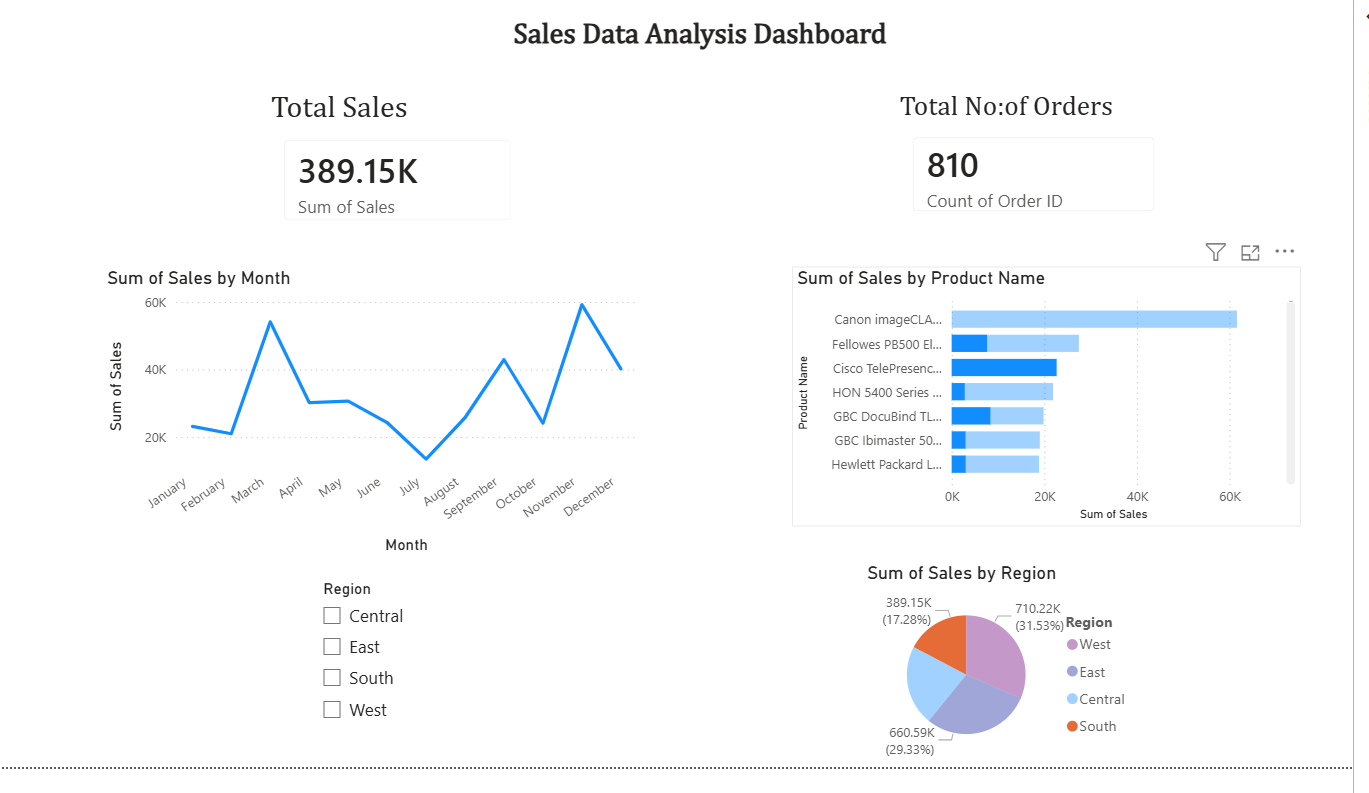

This screenshot's page, from the dashboard's own definition file:
{"tool":"powerbi","page":{"name":"Page 1","canvas":[1280,720],"ordinal":0},"visuals":[{"type":"lineChart","fields":{"Category":["cleaned_sales_data.Order Date.Variation.Date Hierarchy.Month"],"Y":["Sum(cleaned_sales_data.Sales)"]},"box":[116.3,253.5,502.3,272.1],"z":0},{"type":"clusteredBarChart","fields":{"Category":["cleaned_sales_data.Product Name"],"Y":["Sum(cleaned_sales_data.Sales)"]},"box":[758.1,253.5,473.3,241.9],"z":1},{"type":"pieChart","fields":{"Category":["cleaned_sales_data.Region"],"Y":["Sum(cleaned_sales_data.Sales)"]},"box":[823.3,527.9,259.3,191.9],"z":2},{"type":"cardVisual","title":"Total Sales","fields":{"Data":["Sum(cleaned_sales_data.Sales)"]},"box":[268.6,90.7,245.3,137.2],"z":3},{"type":"cardVisual","title":"Total No:of Orders","fields":{"Data":["Count(cleaned_sales_data.Order ID)"]},"box":[853.5,90.7,259.3,129.1],"z":4},{"type":"slicer","fields":{"Values":["cleaned_sales_data.Region"]},"box":[309.3,539.5,226.7,150],"z":5},{"type":"textbox","box":[494.2,17.4,359.3,47.7],"z":6}]}

Visuals, with their boxes in screenshot pixels (x1, y1, x2, y2), scaled from the page's 1280x720 canvas onto the 1369x793 screenshot:
lineChart - cleaned_sales_data.Order Date.Variation.Date Hierarchy.Month x Sum(cleaned_sales_data.Sales): left=124, top=279, right=662, bottom=579
clusteredBarChart - cleaned_sales_data.Product Name x Sum(cleaned_sales_data.Sales): left=811, top=279, right=1317, bottom=546
pieChart - cleaned_sales_data.Region x Sum(cleaned_sales_data.Sales): left=881, top=581, right=1158, bottom=792
"Total Sales" cardVisual: left=287, top=100, right=550, bottom=251
"Total No:of Orders" cardVisual: left=913, top=100, right=1190, bottom=242
slicer - cleaned_sales_data.Region: left=331, top=594, right=573, bottom=759
textbox: left=529, top=19, right=913, bottom=72
